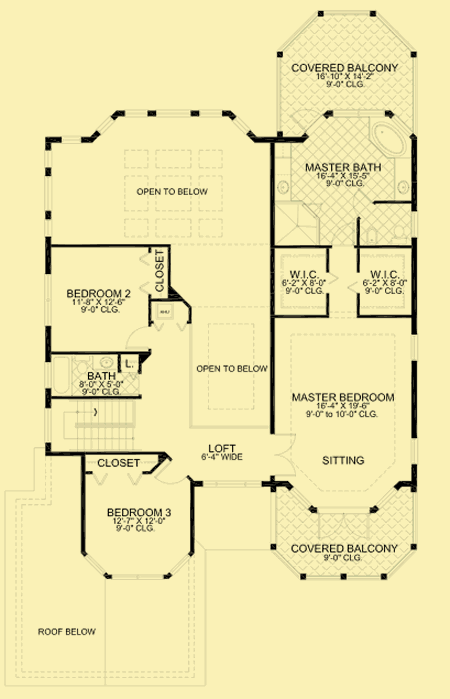door: (269, 433, 298, 480), (122, 323, 154, 356), (153, 461, 187, 487)
large_sink: (386, 224, 411, 246)
small_sink: (390, 158, 415, 202), (273, 164, 295, 200)
stairs: (46, 397, 140, 453)
tub: (367, 117, 412, 160), (50, 352, 74, 398)
window: (119, 105, 226, 121), (40, 148, 56, 238), (39, 271, 55, 328)
